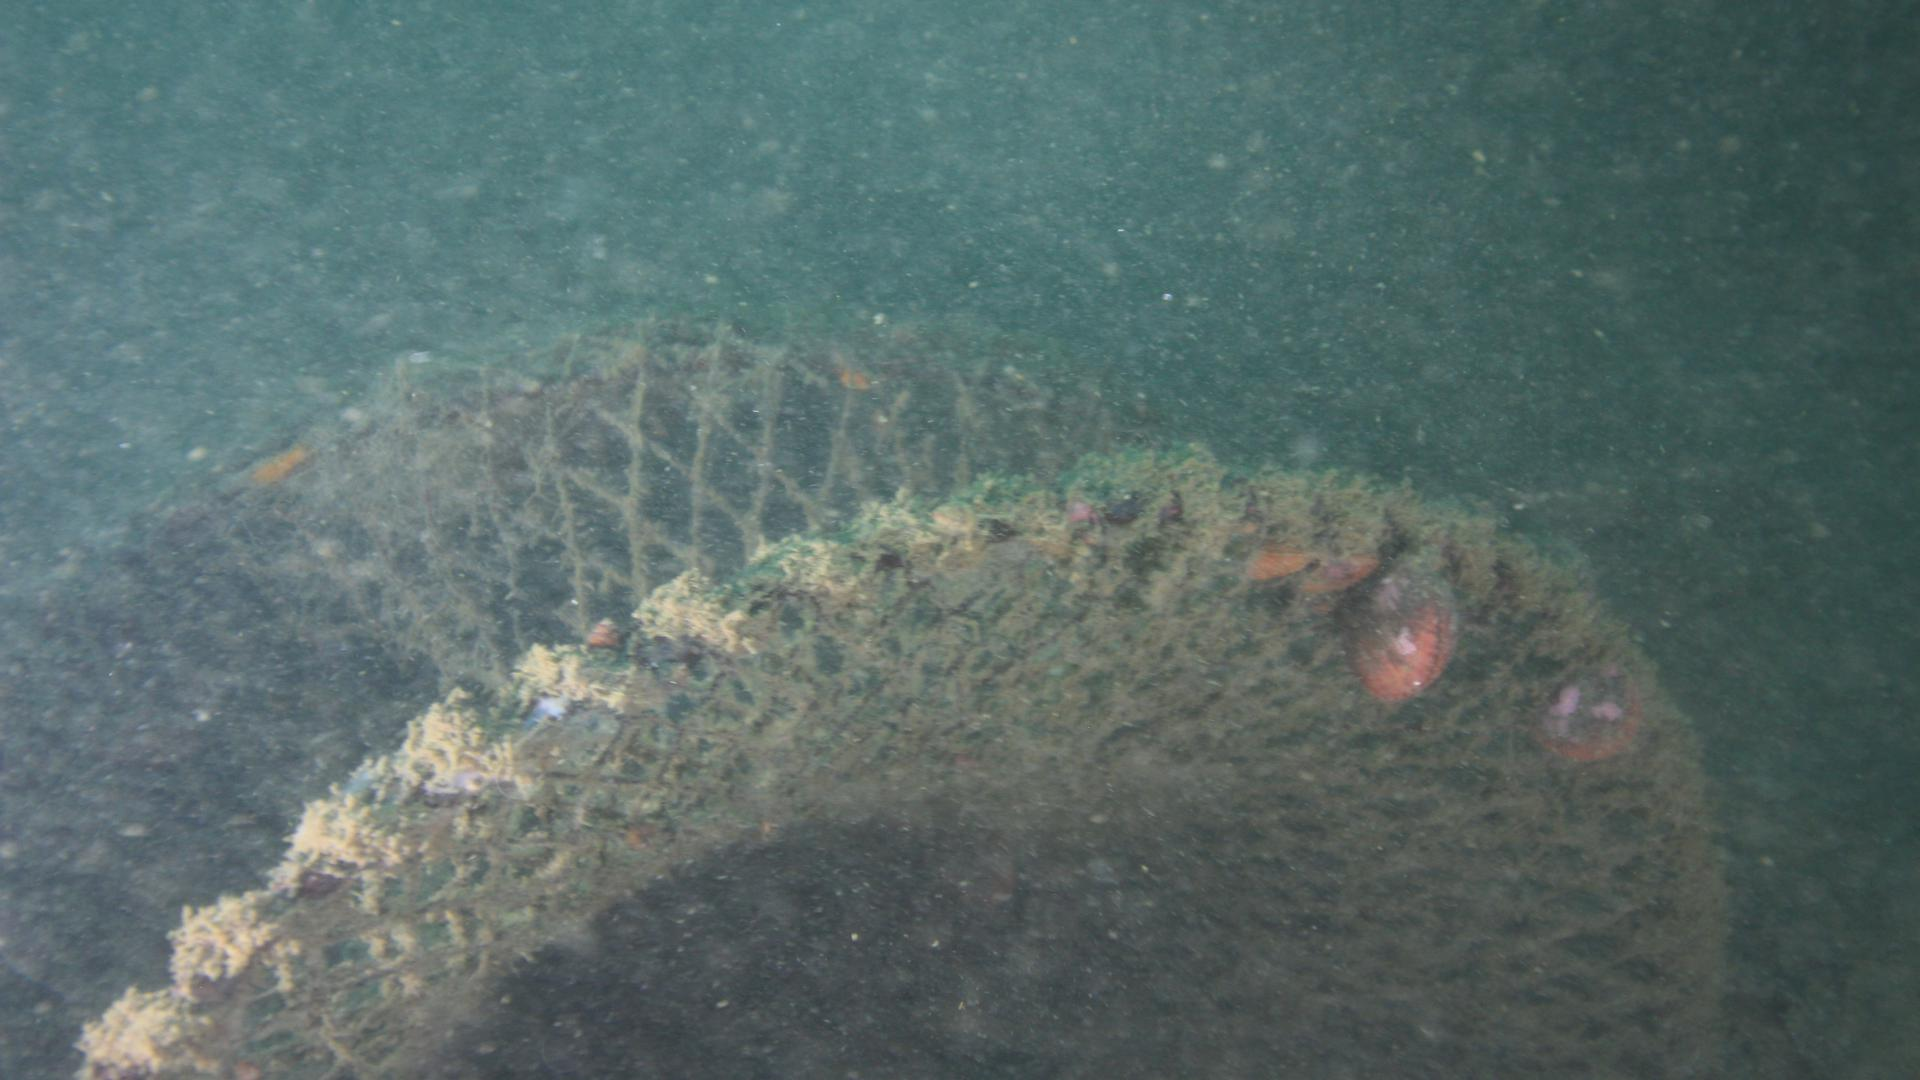circular fish trap: (0, 316, 1735, 1080)
